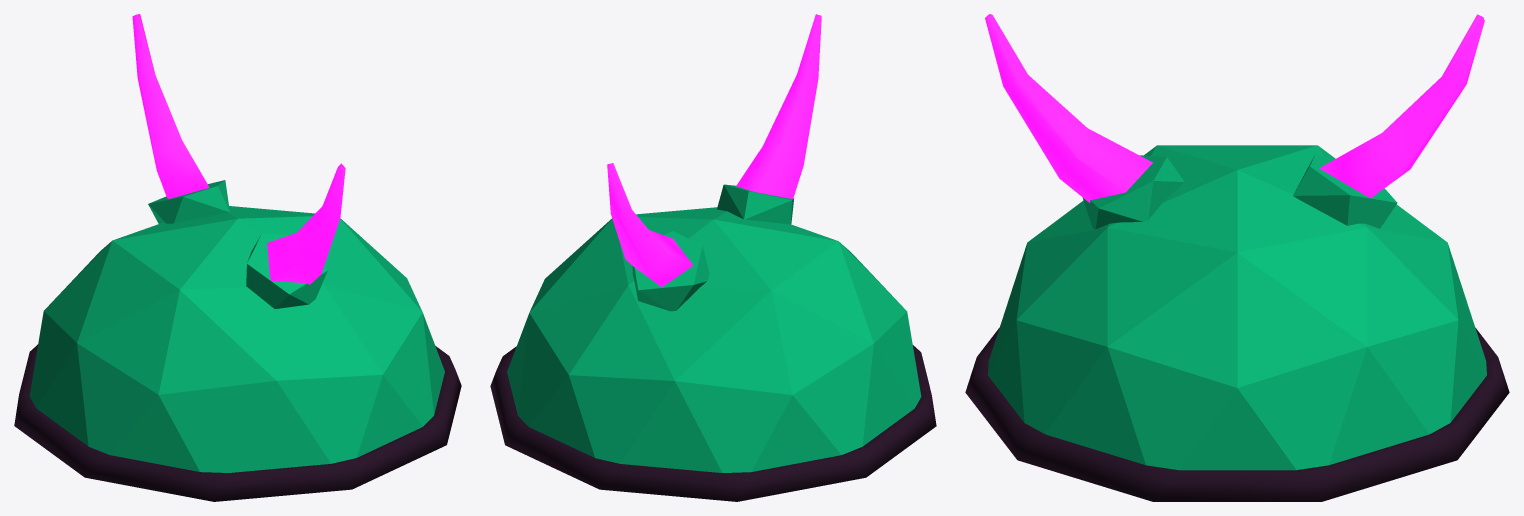
Rendered from uploads_files_3520646_Beetle+Hat.fbx.
3 renders of one model, left to right at view 1: azimuth 30°, elevation 25°; view 2: azimuth 150°, elevation 25°; view 3: azimuth 270°, elevation 25°, orthographic. The views are drawn at different scales.
Parts seen in each view (by area): view 1: Base, Rims, Horns; view 2: Base, Rims, Horns; view 3: Base, Rims, Horns.
Boxes of the visible parts, x1,y1,x2,y2 form: Base: (29, 180, 444, 472); Rims: (14, 344, 461, 501); Horns: (132, 14, 345, 284); Base: (507, 184, 921, 472); Rims: (490, 345, 936, 501); Horns: (607, 14, 821, 286); Base: (988, 145, 1486, 470); Rims: (965, 328, 1509, 501); Horns: (985, 14, 1484, 202).
Bounding box in the file's own units: 199 × 162 × 210.
